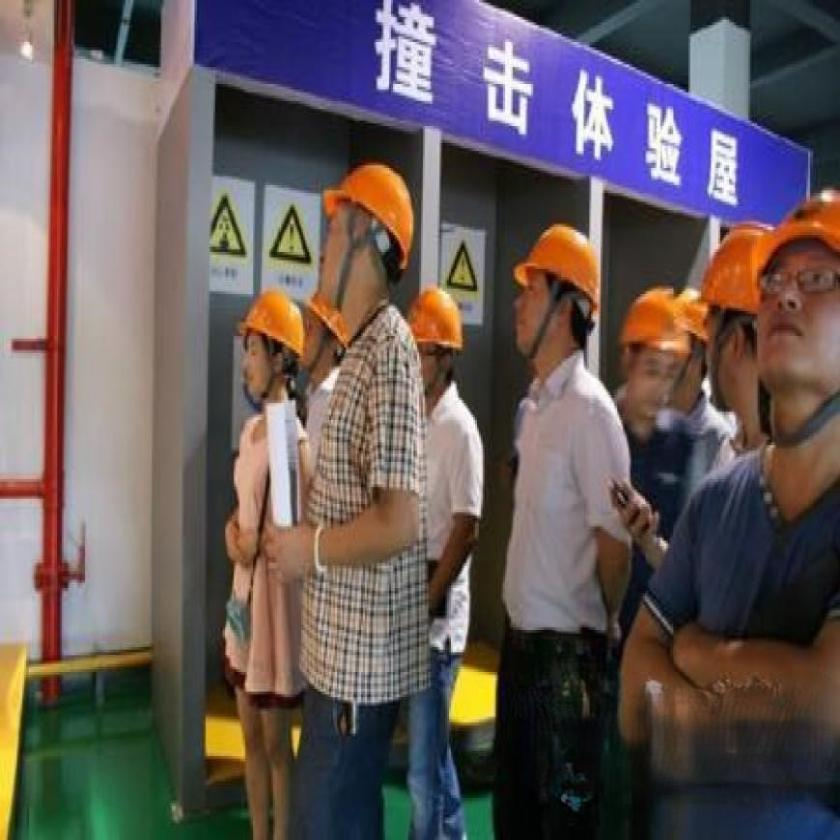Con_casco: (316, 155, 416, 341), (698, 216, 777, 419), (514, 214, 602, 368), (240, 276, 312, 423)
